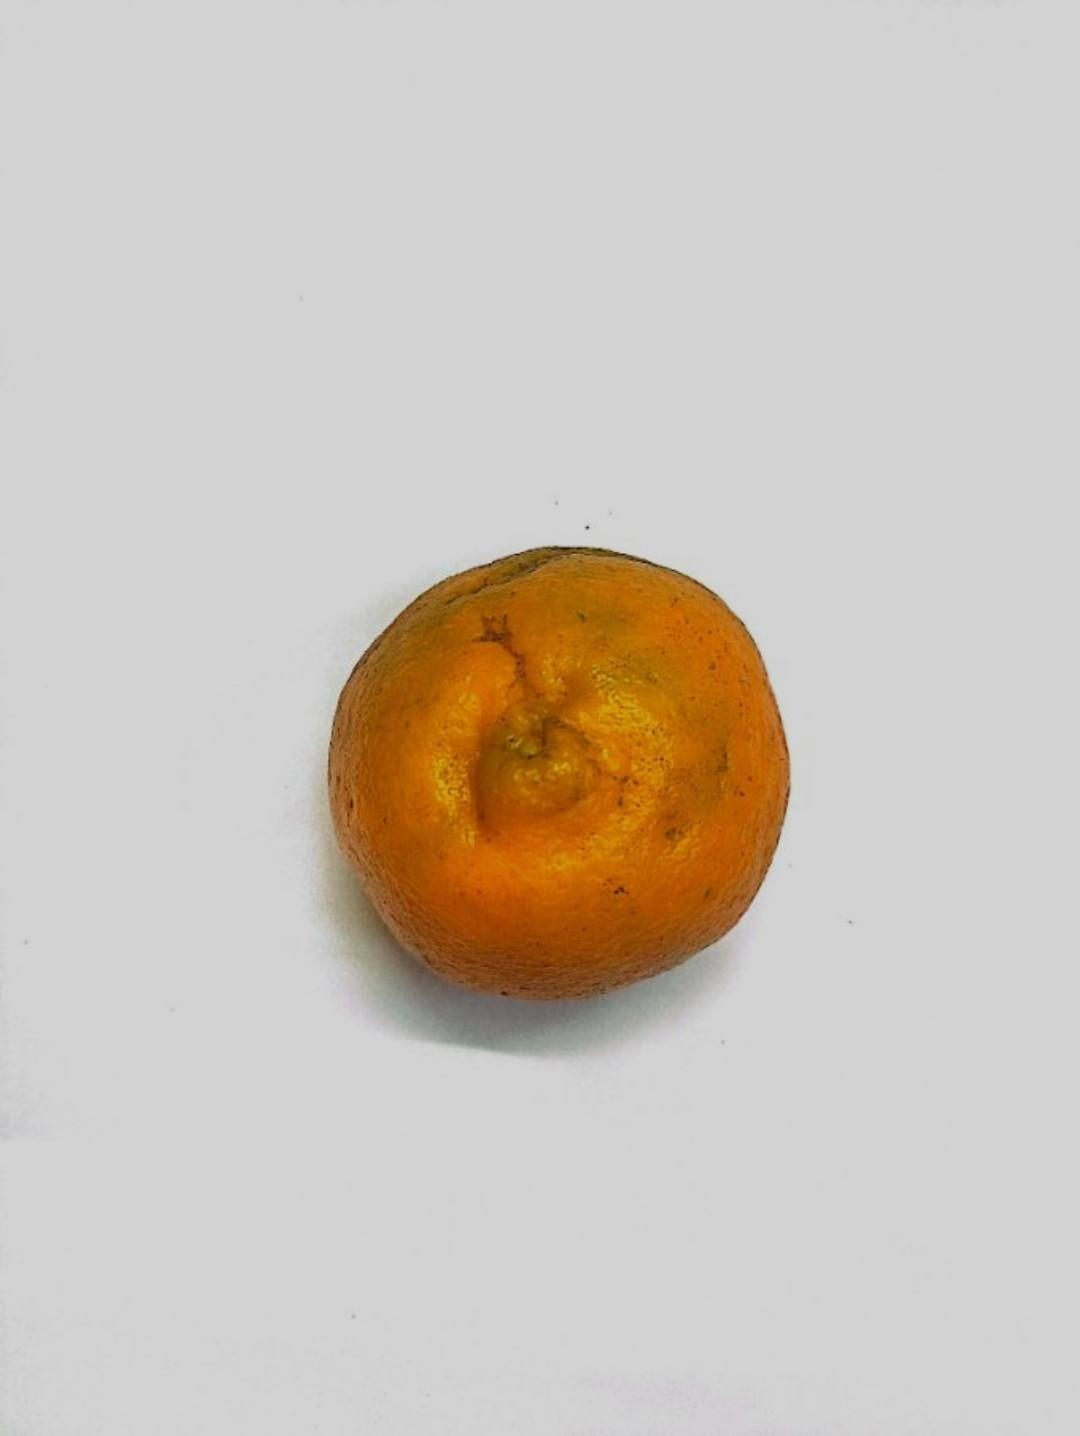Unripe: (327, 550, 790, 1000)
